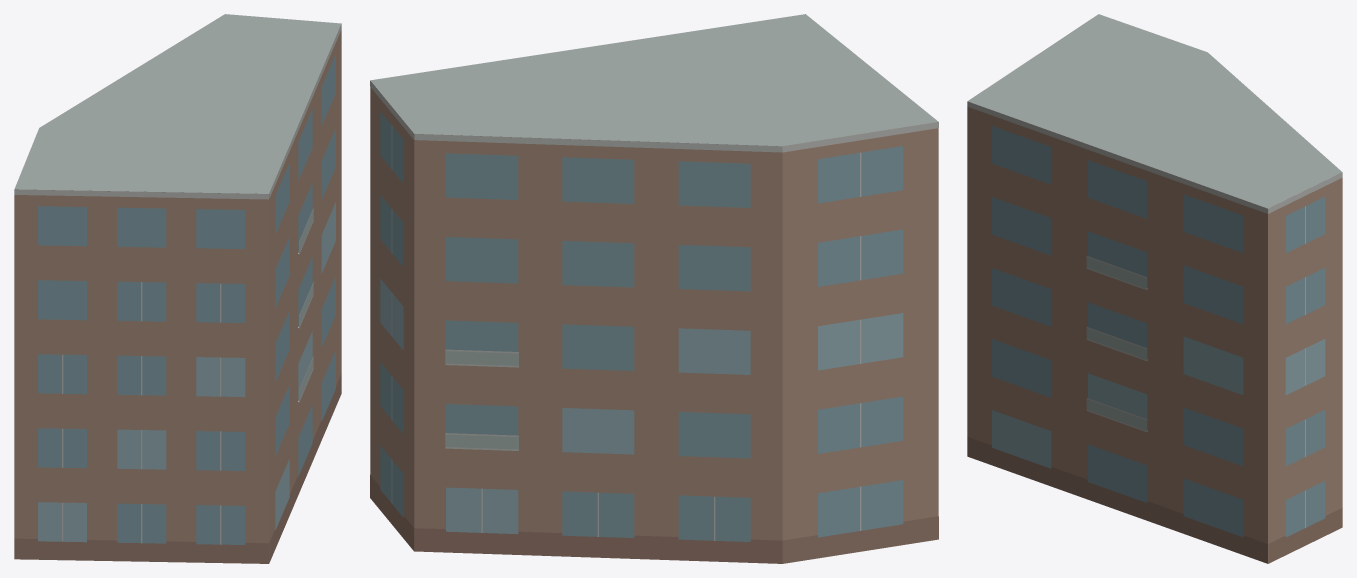
File: survey-upis-32487719.glb
The picture shows the model from 3 angles, left to right: view 1: azimuth 30°, elevation 25°; view 2: azimuth 150°, elevation 25°; view 3: azimuth 270°, elevation 25°; orthographic projection. The views are drawn at different scales.
Parts seen in each view (by area): view 1: survey-upis-32487719.tmp; view 2: survey-upis-32487719.tmp; view 3: survey-upis-32487719.tmp.
Boxes of the visible parts, x1,y1,x2,y2 form: survey-upis-32487719.tmp: (14,14,341,563); survey-upis-32487719.tmp: (370,14,938,563); survey-upis-32487719.tmp: (967,14,1342,563).
Bounding box in the file's own units: 19.23 × 16.35 × 15.67.
